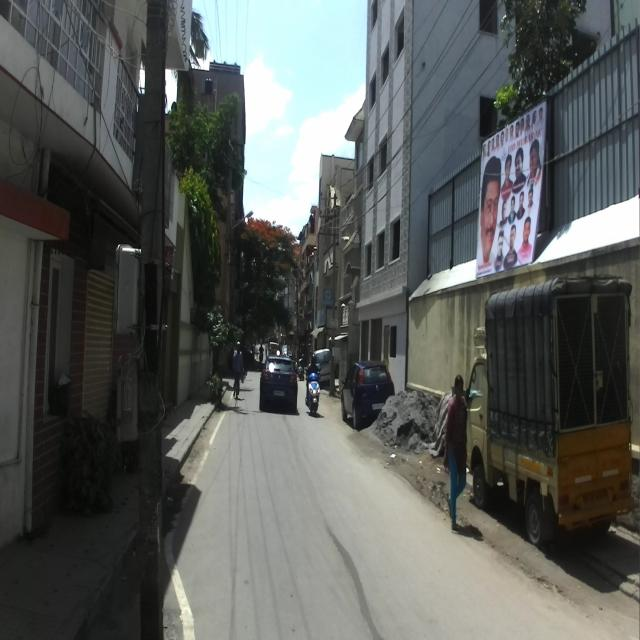scooter: (305, 366, 321, 414)
truck: (465, 274, 634, 546)
